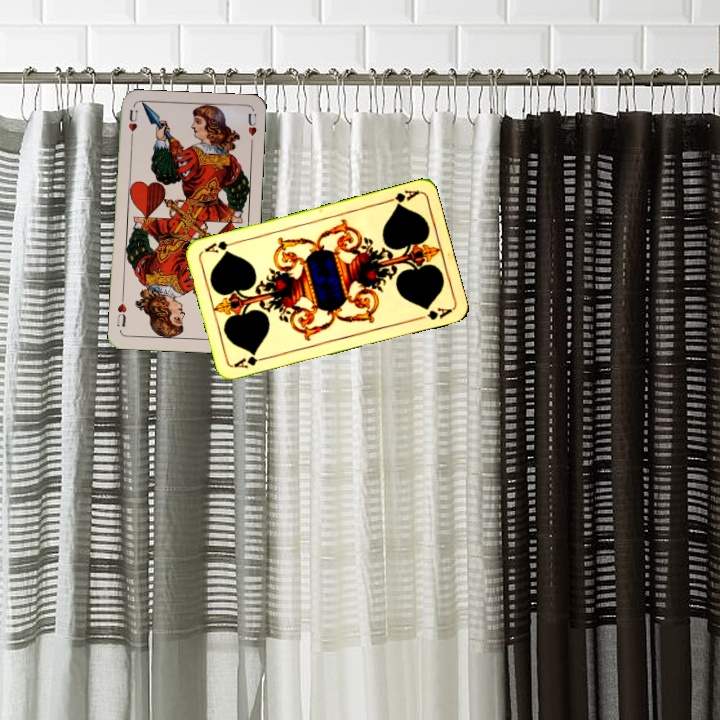GA: (381, 186, 421, 209), (230, 352, 270, 371)
HU: (124, 106, 140, 145)
